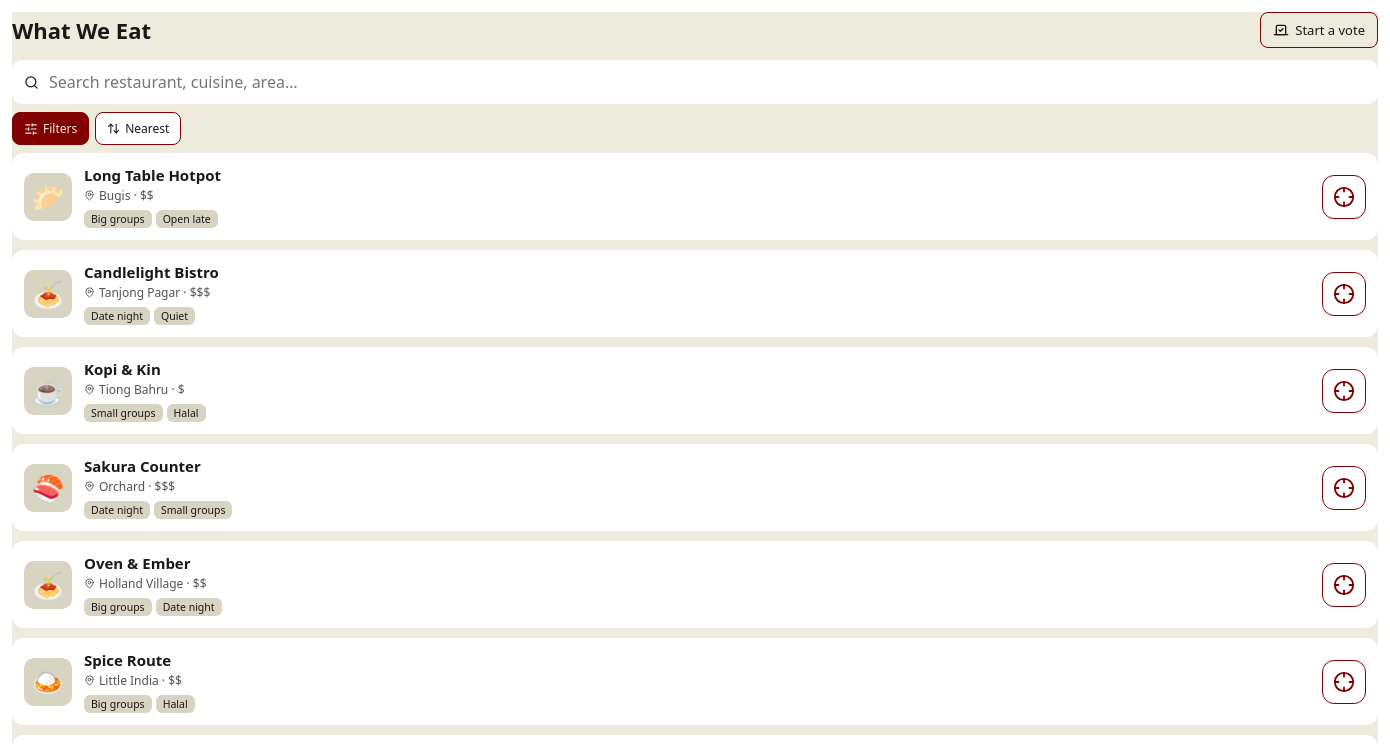
Test: Cancel leaves picking and brings the Target buttons back
Check: the link "Long Table Hotpot" is shown, box [84,165,221,185]
Click the button "Start a vote" at (1319, 30), box [1260,12,1378,48]
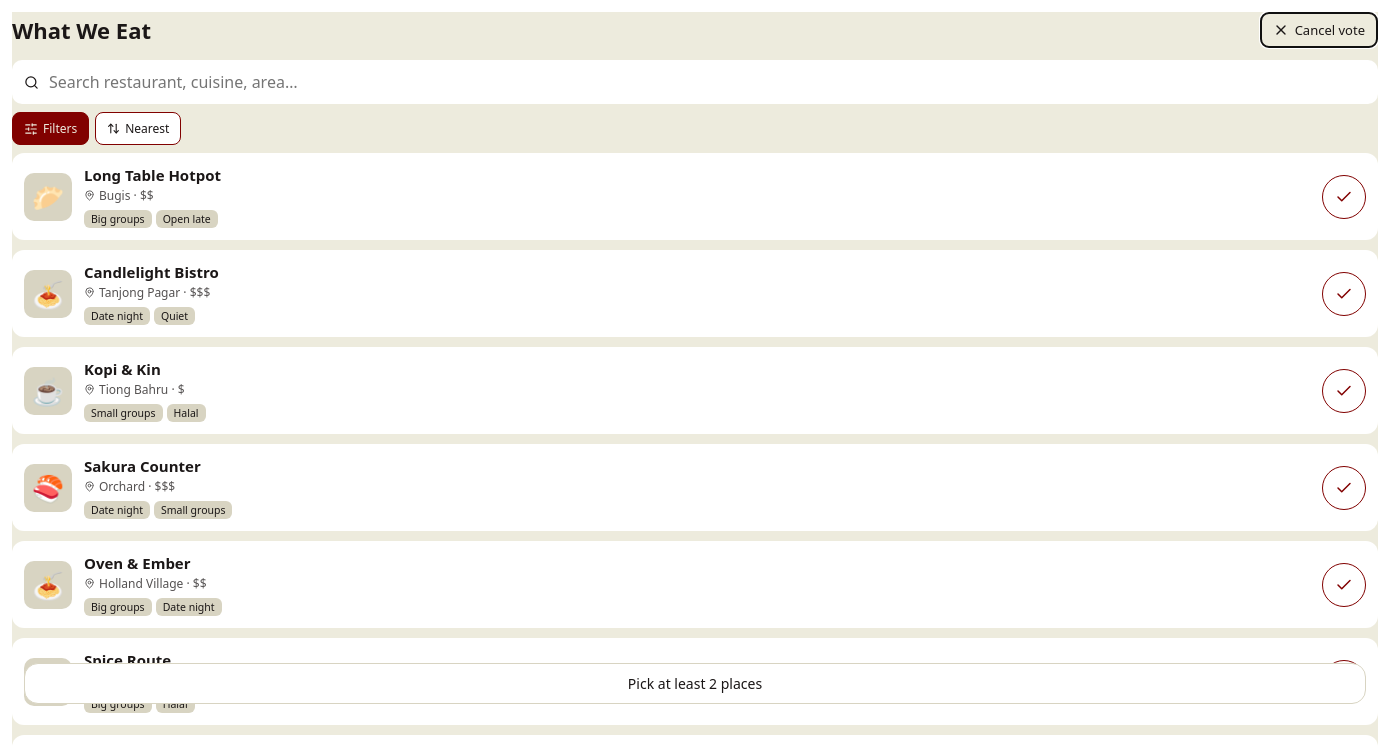
Click the button "Cancel vote" at (1319, 30), box [1260,12,1378,48]
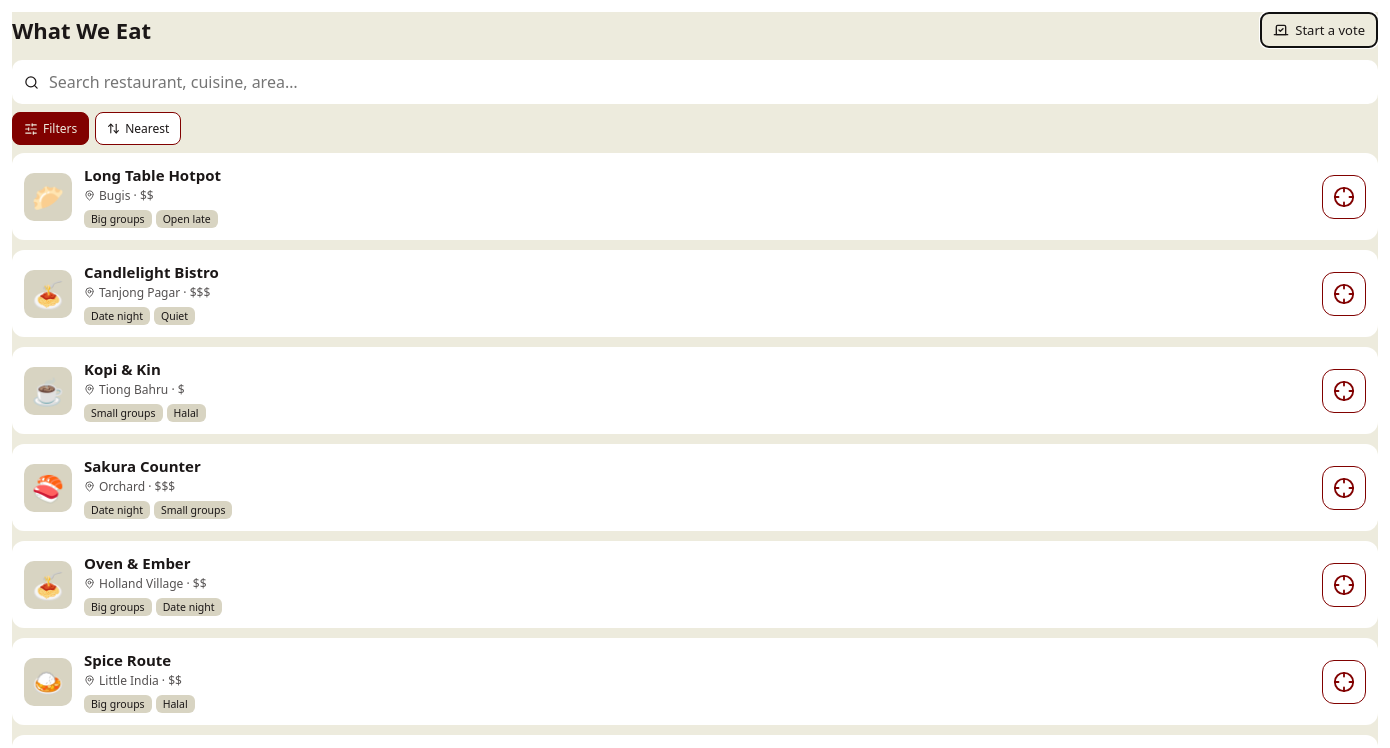
Check: the button named "Target Kopi & Kin" is shown, box [1322,368,1366,412]
Check: the button "Start a vote" is shown, box [1260,12,1378,48]
